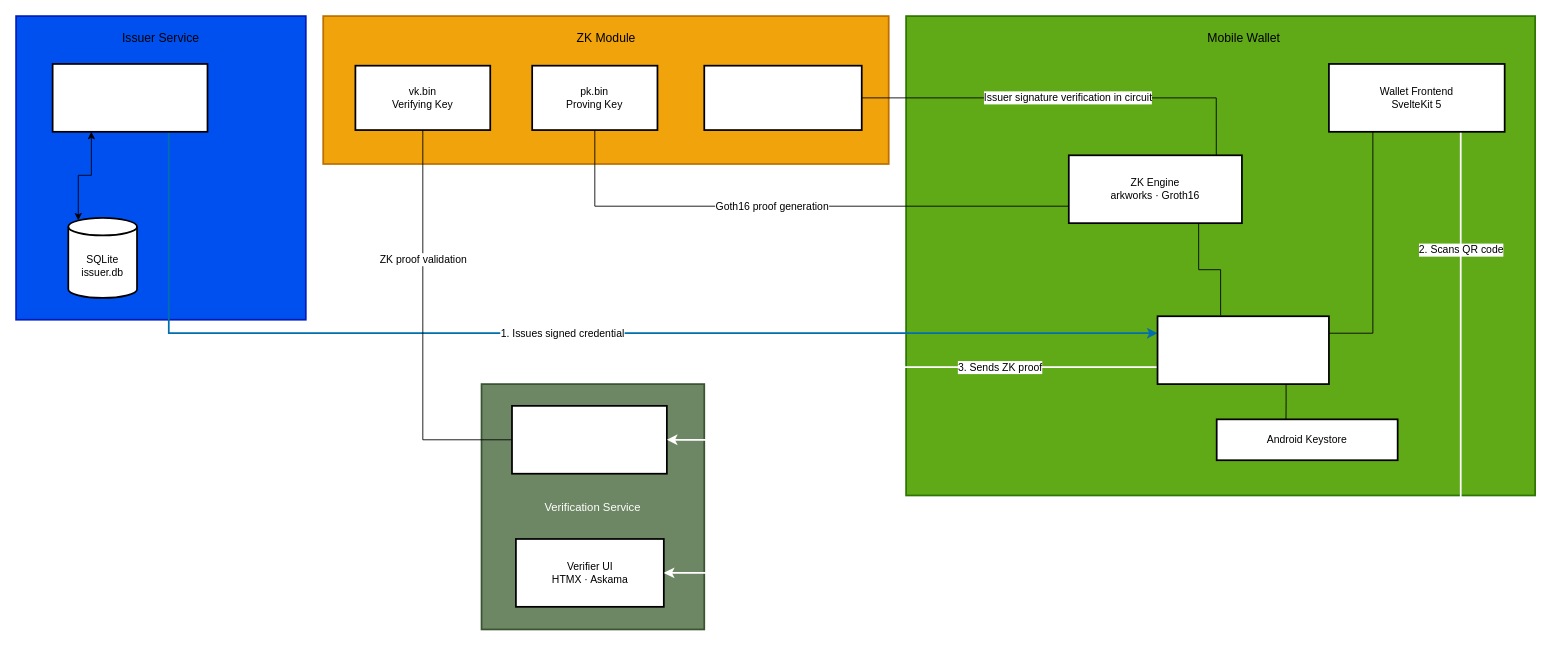
Some shapes in this 1550 by 645 pixel diagram are drawn without their labels. Here are the shapes that lost their labels. From the top down, the box of each, then its label:
(51, 63, 208, 132): 🏛️ Issuer API Rust · Actix-web
(703, 64, 862, 130): issuer_pk.bin Issuer Public Key
(1156, 315, 1329, 385): Wallet Backend Rust · Tauri 2
(511, 405, 667, 474): Verifier API Rust · Actix-web
